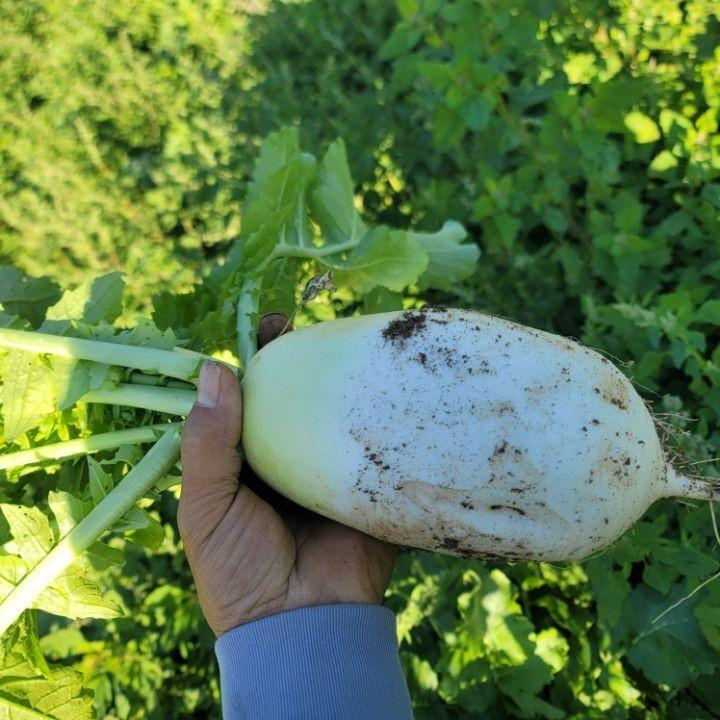radish: (293, 371, 720, 588)
